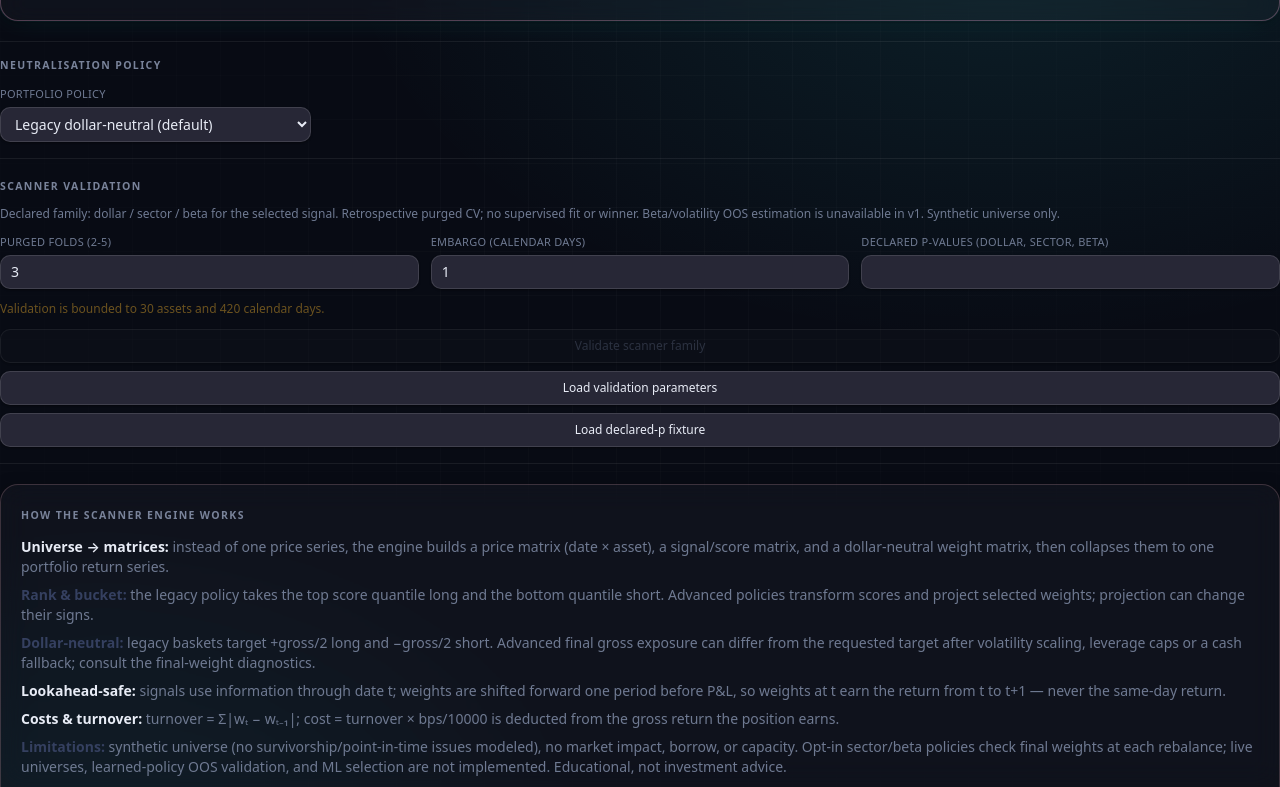
Test: ScannerLabPanel › sends actual policies, renders corrections/audit, and invalidates edited verdicts
(page scrolled)
Click the button "Load validation parameters". click: coordinates (640, 388)
box: [0,371,1279,405]
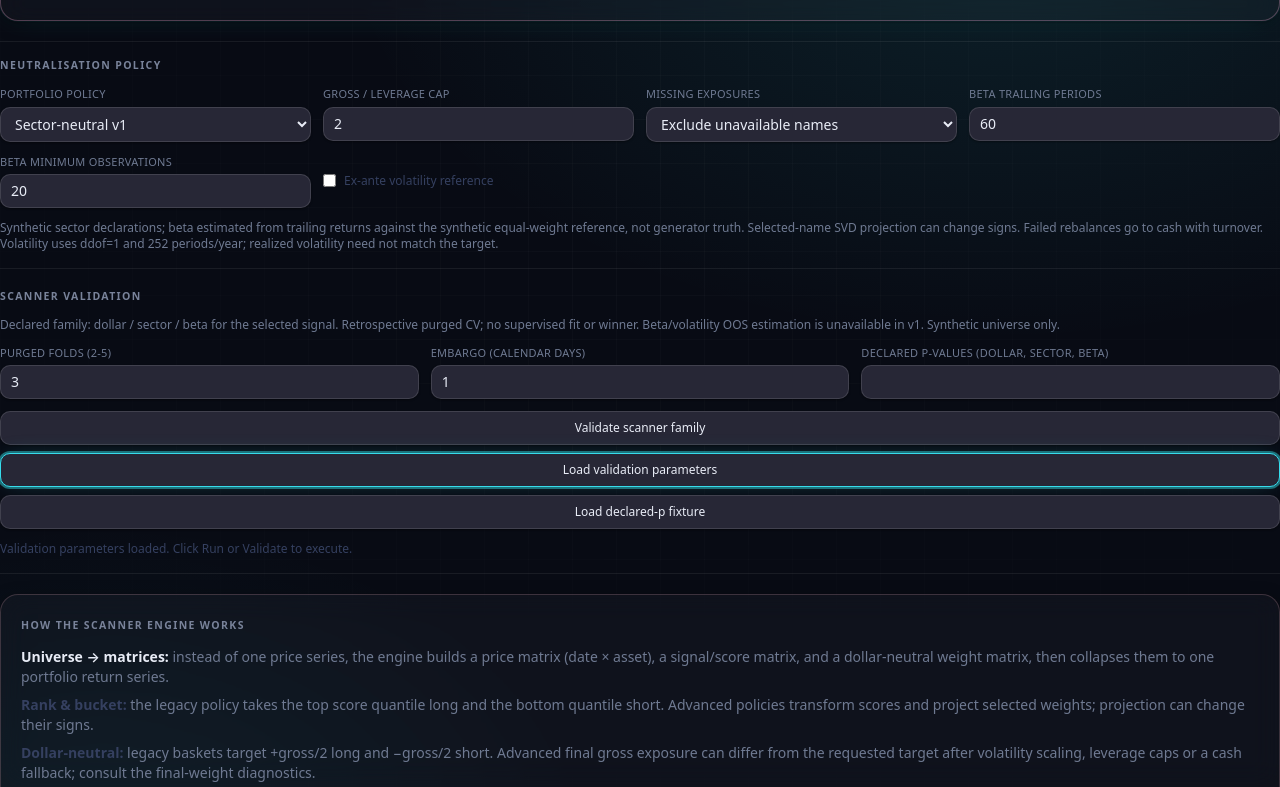
Click the button "Load declared-p fixture". click: coordinates (640, 512)
box: [0,495,1279,529]
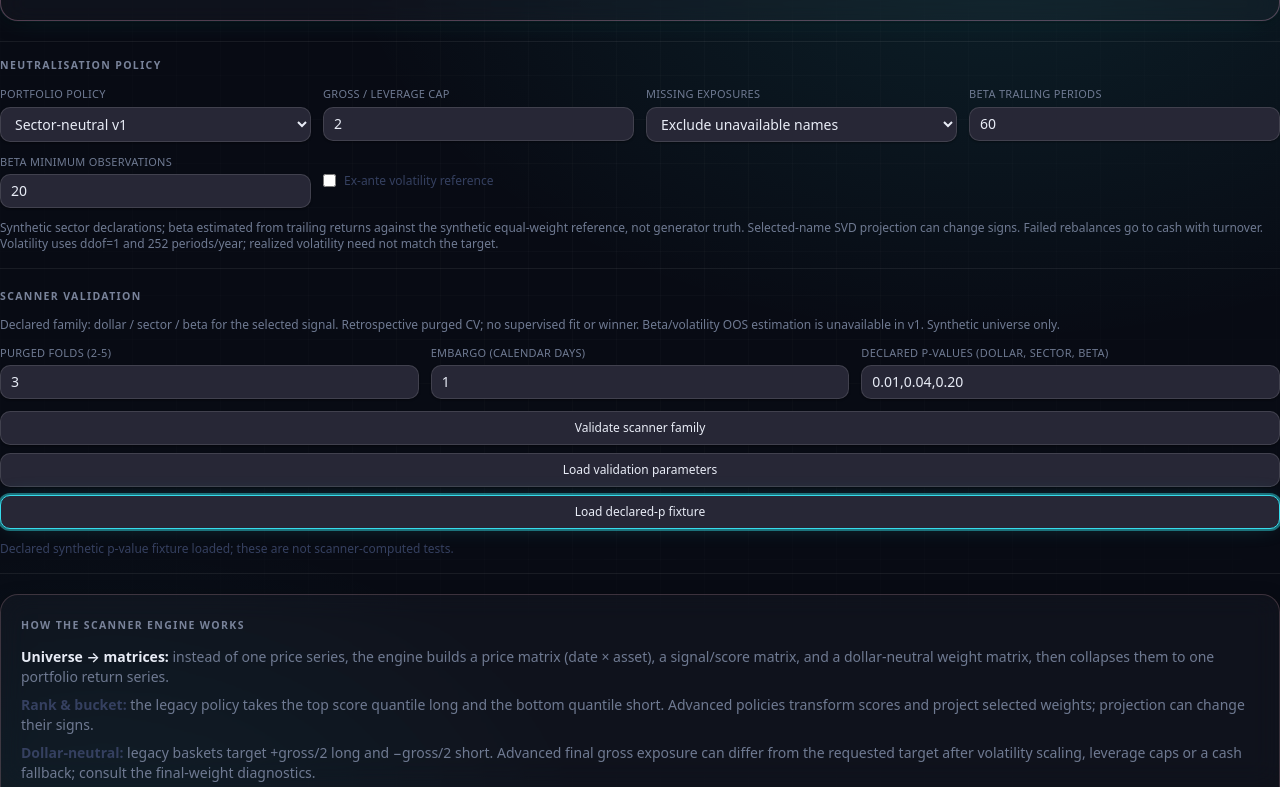
Click the button "Validate scanner family". click: coordinates (640, 428)
box: [0,411,1279,445]
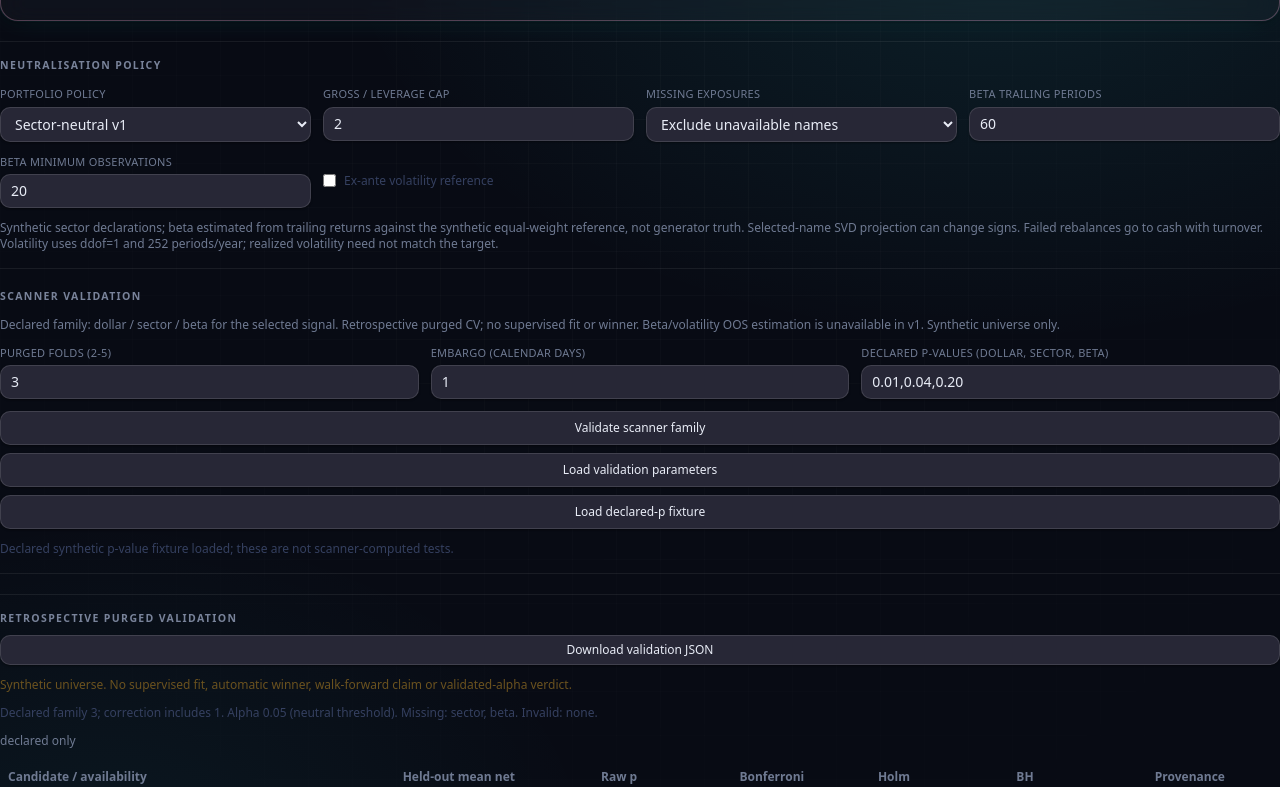
Clear the number field labelled "Embargo (calendar days)". click: coordinates (640, 382)
box: [431,365,849,399]
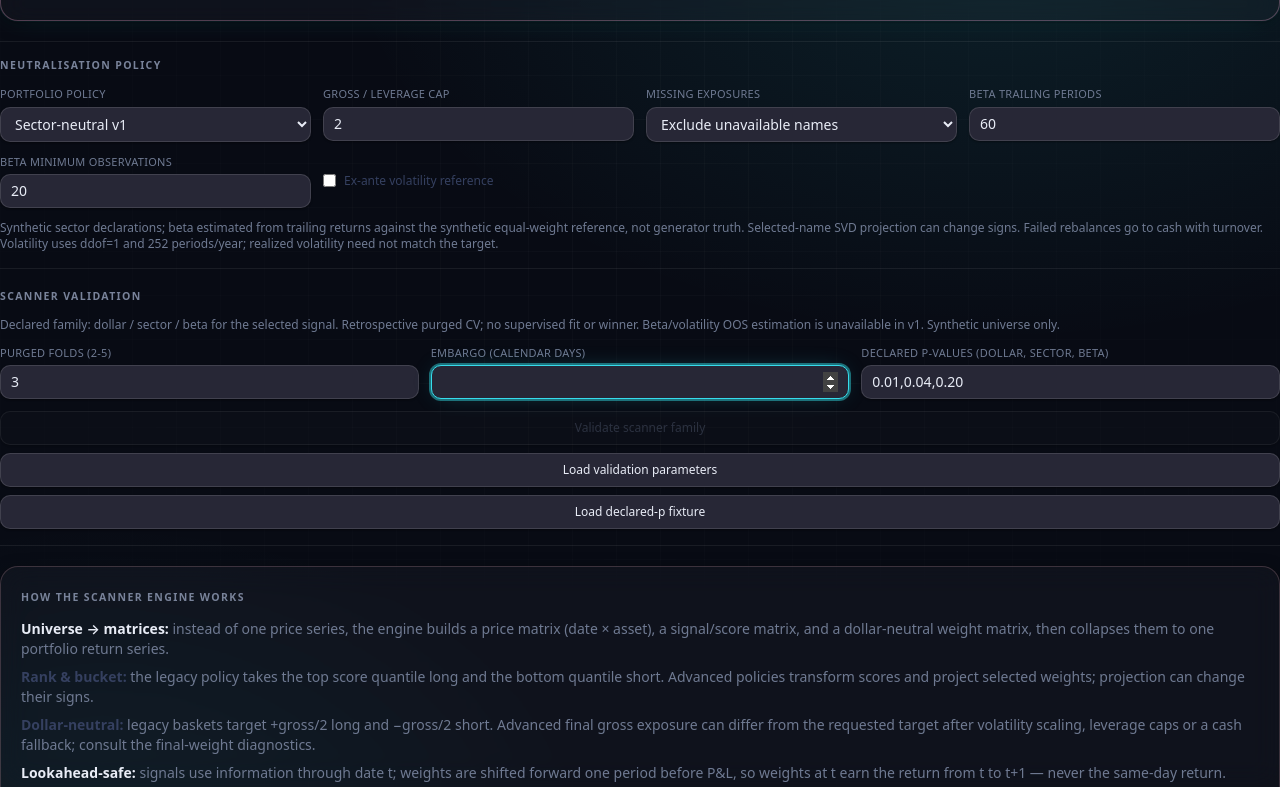
Result: the button "Download validation JSON" is gone
